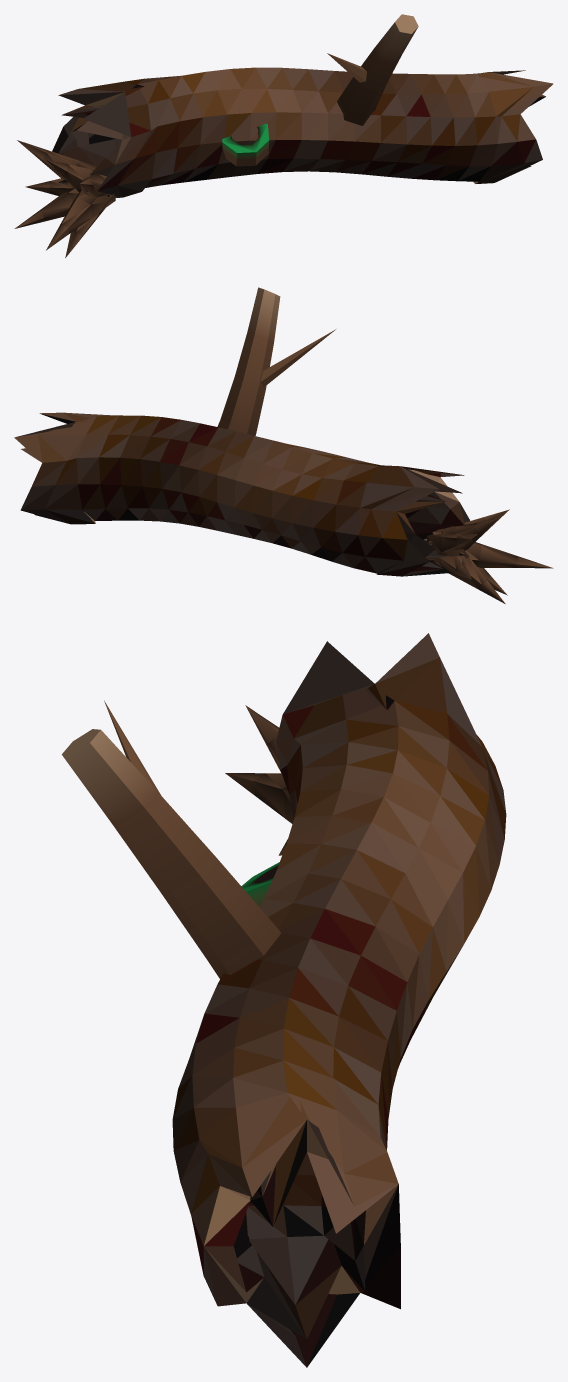
File: pohon_tumbang_uprooted_rainforest_488829.glb
The picture shows the model from 3 angles, top to bottom: view 1: azimuth 30°, elevation 25°; view 2: azimuth 150°, elevation 25°; view 3: azimuth 270°, elevation 25°; orthographic projection. The views are drawn at different scales.
Visible parts, largest first — view 1: Tunggul_Akar_Tumbang; view 2: Tunggul_Akar_Tumbang; view 3: Tunggul_Akar_Tumbang.
Boxes of the visible parts, <box> form: Tunggul_Akar_Tumbang: <box>14,14,553,257</box>; Tunggul_Akar_Tumbang: <box>14,287,553,603</box>; Tunggul_Akar_Tumbang: <box>62,633,506,1367</box>.
Bounding box in the file's own units: 5.07 × 2.21 × 1.92.
